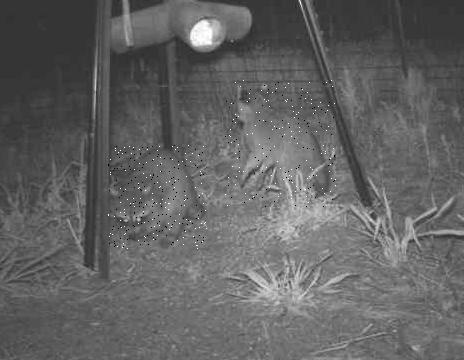Raccoon: (224, 80, 335, 207), (108, 145, 207, 249)
